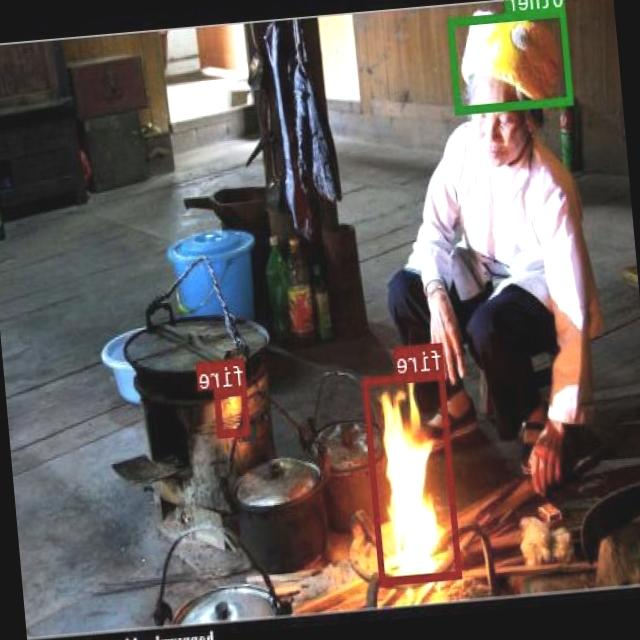fire: (363, 369, 462, 584), (216, 386, 250, 436)
